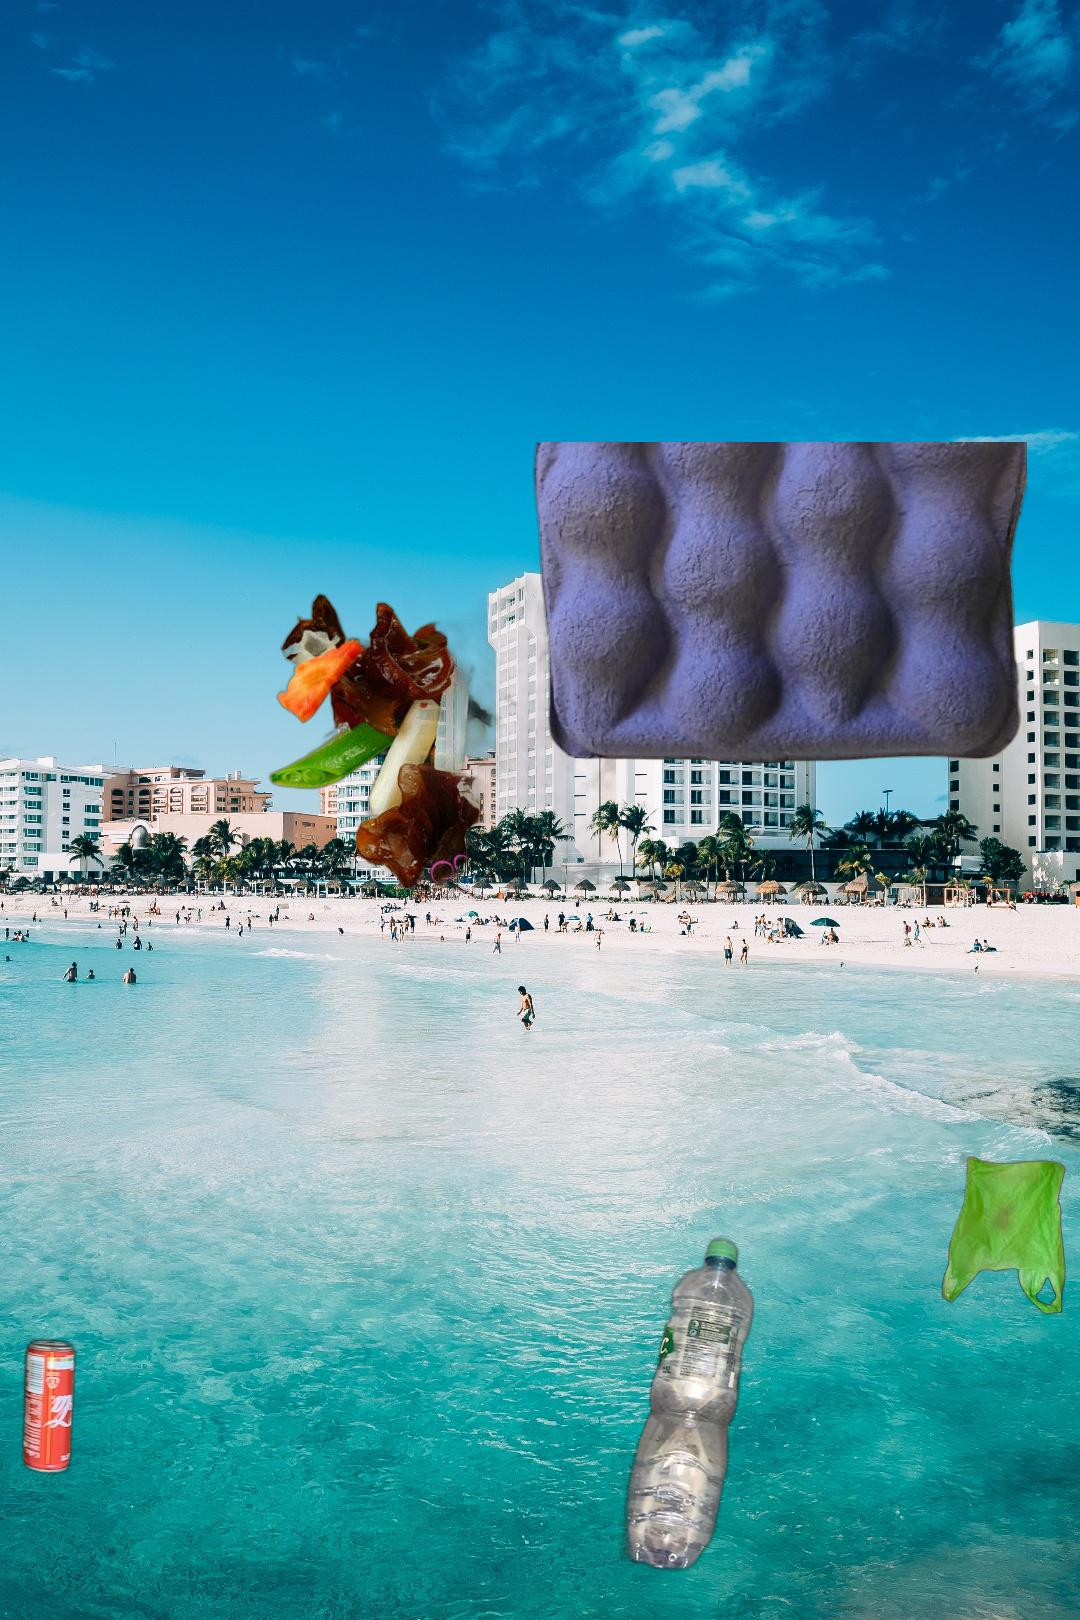biological: (266, 520, 616, 904)
metal-cans: (18, 1333, 80, 1479)
paper: (529, 442, 1027, 765)
penholder: (1005, 850, 1080, 1600)
plastic-bag: (926, 1150, 1068, 1316)
plastic-bottles: (616, 1233, 757, 1575)
